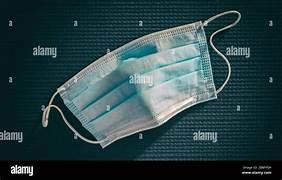Mask: (42, 11, 240, 147)
